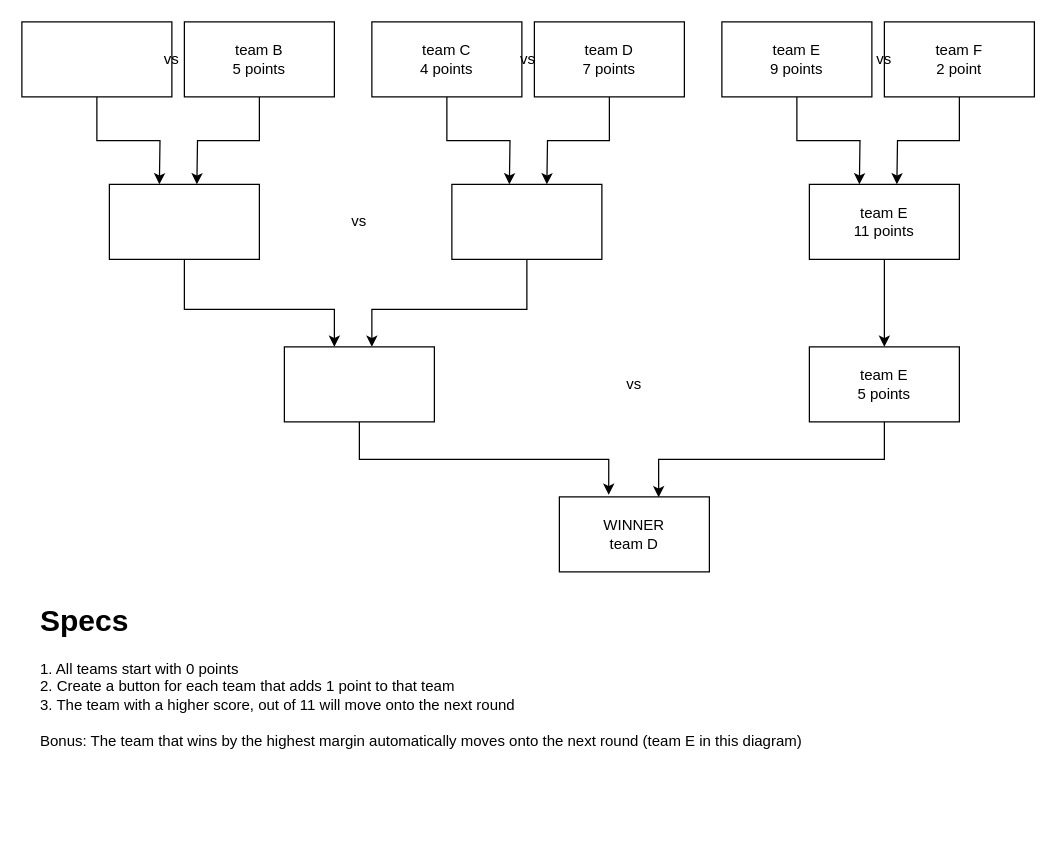
This 1056x844 diagram has some shape labels left out. Here are the shapes that lost their labels. From the top down, the box of each, then its label:
(21, 21, 172, 97): team A 6 points
(108, 183, 259, 259): team A 3 points
(451, 183, 602, 259): team D 8 points
(283, 346, 434, 422): team D 6 points
